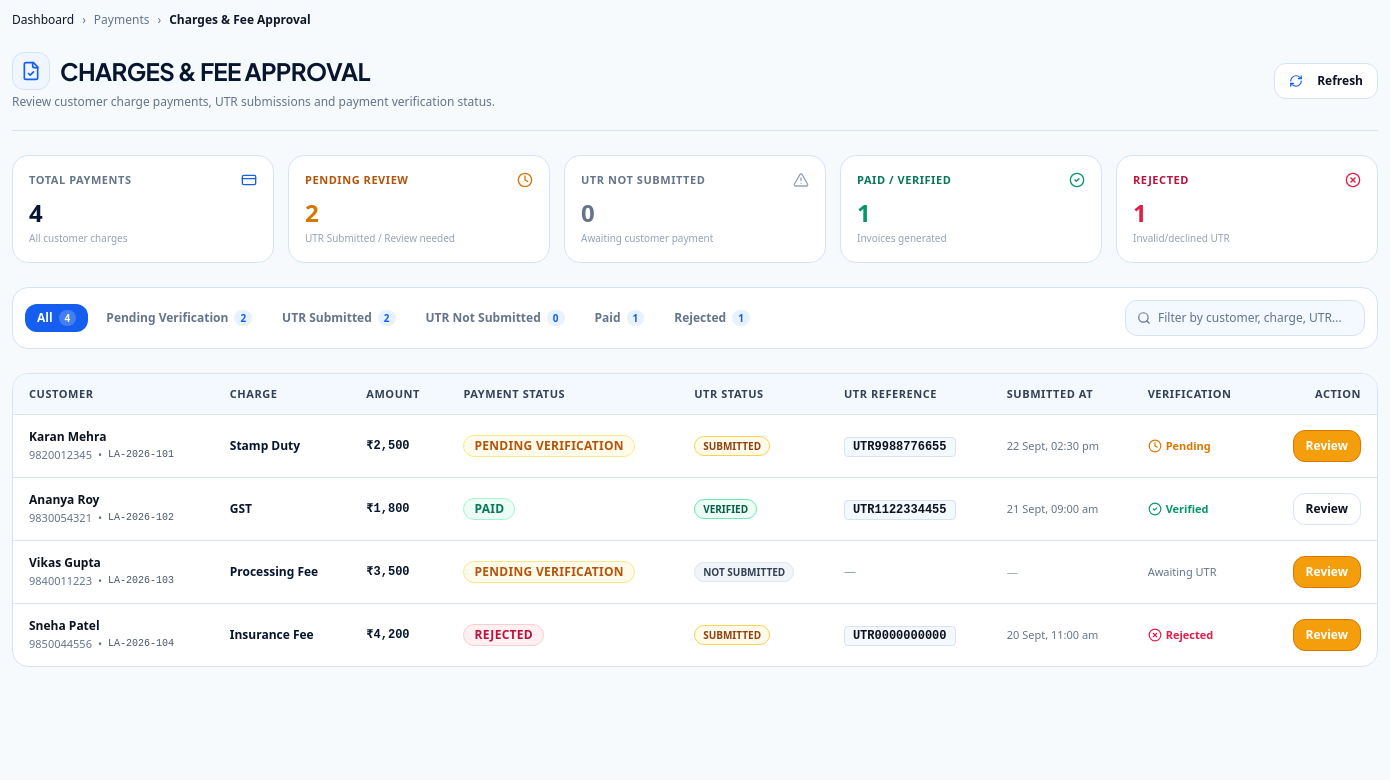
Test: Admin Charges & Fee Approval Workflow › TEST 3: Filter tabs isolate Pending vs Paid vs Rejected records
The width and height of the screenshot is (1390, 780).
Expected: the text "Karan Mehra" is shown, [29,428,106,445]
// Click Verified / Paid tab
Click the button "Paid 1": click(619, 318) [582,304,656,332]
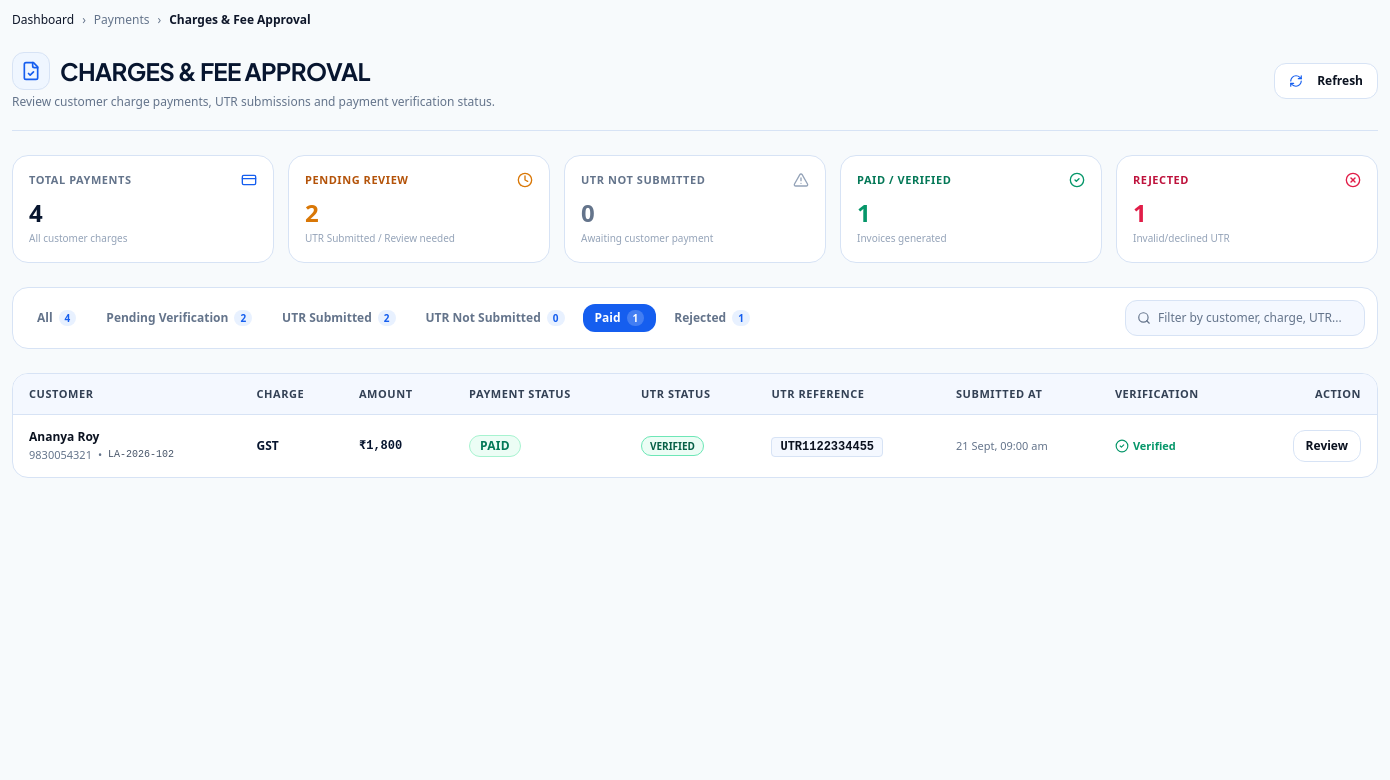
Expected: the text "Ananya Roy" is shown, [29,428,99,445]
Expected: the text "Karan Mehra" is gone
